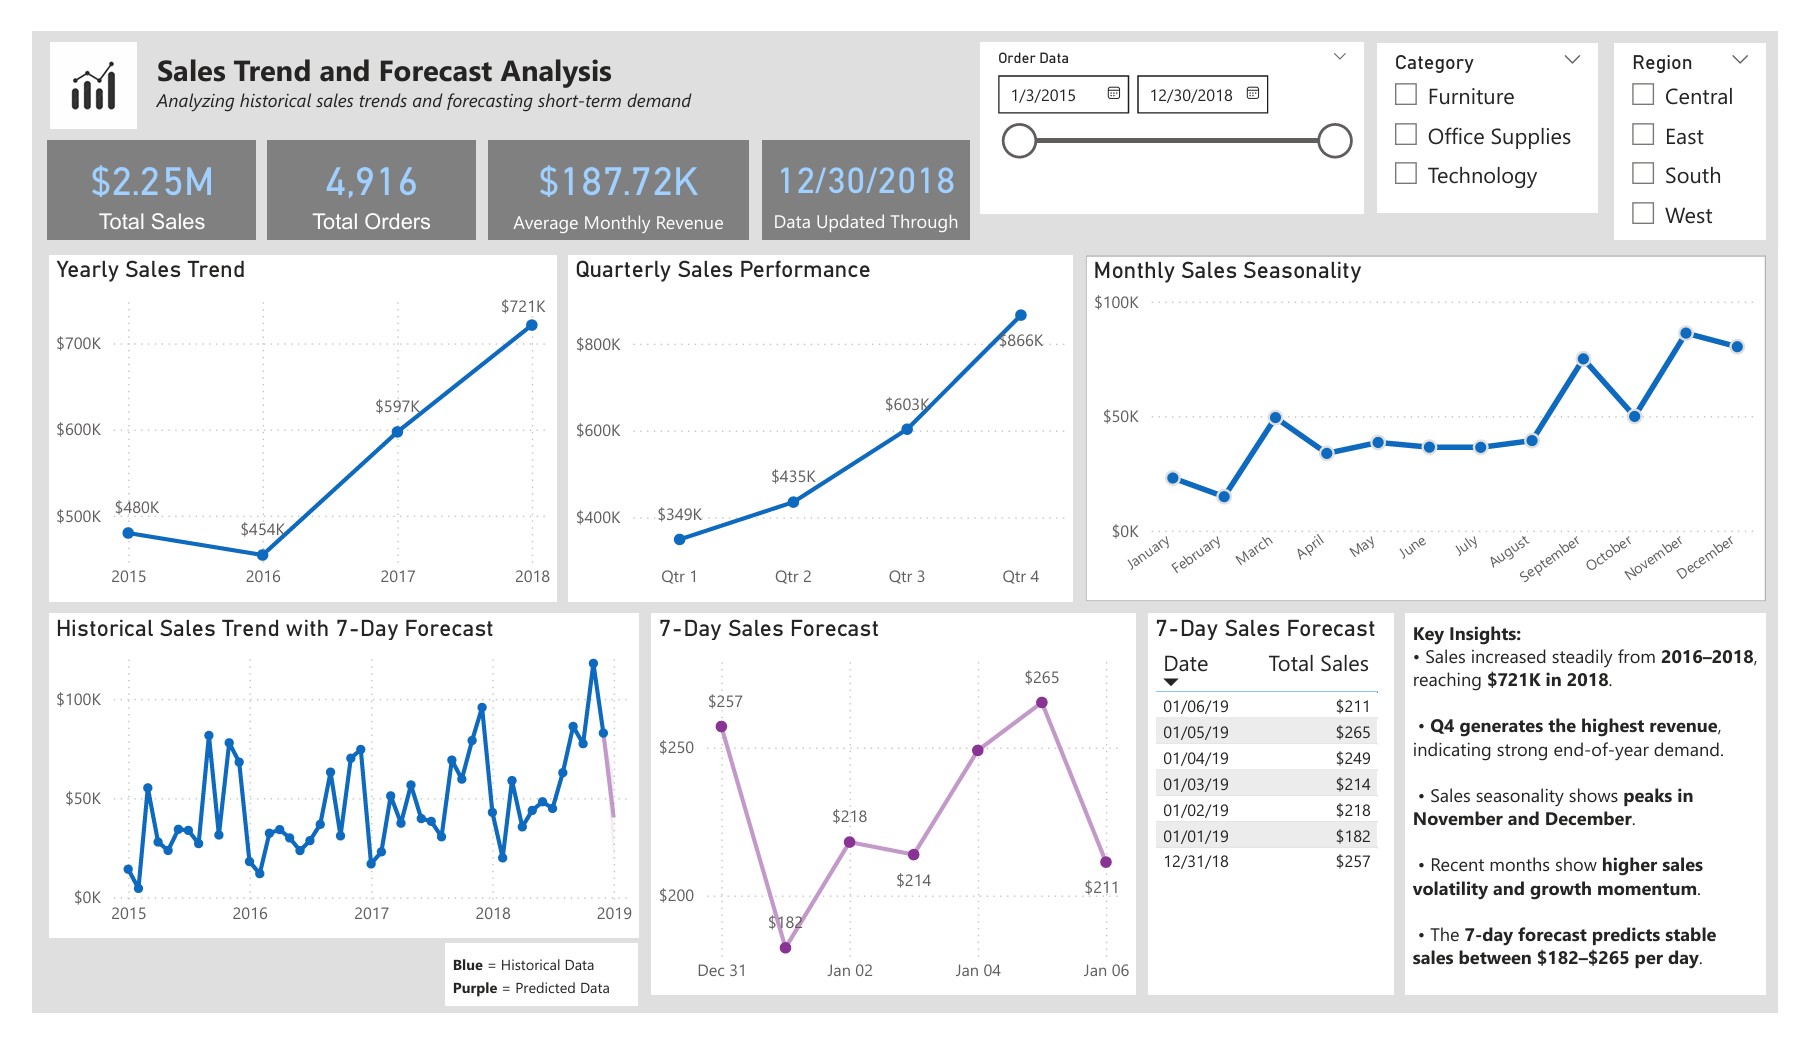

This screenshot's page, from the dashboard's own definition file:
{"tool":"powerbi","page":{"name":"📈 Dashboard 2 — Sales Trends & Forecasting","canvas":[1280,720],"ordinal":1},"visuals":[{"type":"textbox","box":[85.7,8.1,715.6,62.5],"z":0},{"type":"card","fields":{"Values":["superstore_clean.Total Sales"]},"box":[11.1,79.6,153.2,73.6],"z":1000},{"type":"card","fields":{"Values":["superstore_clean.Total Orders"]},"box":[171.8,80,153.6,72.7],"z":2000},{"type":"card","fields":{"Values":["superstore_clean.Avg Monthly Sales"]},"box":[333.6,80,152.7,72.7],"z":3000},{"type":"lineChart","title":"Monthly Sales Pattern","fields":{"Category":["superstore_clean.order_month"],"Y":["Sum(superstore_clean.sales)"]},"box":[11.9,419.5,671.8,257.7],"z":11000},{"type":"image","box":[8.1,8.1,72.6,62.5],"z":13000},{"type":"lineChart","title":"Sales Trend Over Time","fields":{"Category":["superstore_clean.order_date.Variation.Date Hierarchy.Year","superstore_clean.order_date.Variation.Date Hierarchy.Quarter","superstore_clean.order_date.Variation.Date Hierarchy.Month","superstore_clean.order_date.Variation.Date Hierarchy.Day"],"Y":["Sum(superstore_clean.sales)"]},"box":[11.9,162.8,671.8,244.8],"z":13001},{"type":"lineChart","title":"Quarterly Sales Performance","fields":{"Category":["superstore_clean.order_quarter"],"Y":["Sum(superstore_clean.sales)"]},"box":[694.5,419.5,576.9,257.7],"z":13003},{"type":"lineChart","title":"7-Day Sales Forecast Based on Historical Trends","fields":{"Category":["superstore_clean.order_date.Variation.Date Hierarchy.Year","superstore_clean.order_date.Variation.Date Hierarchy.Month"],"Y":["Sum(superstore_clean.sales)"]},"box":[694.5,162.8,576.9,244.8],"z":13004},{"type":"slicer","fields":{"Values":["superstore_clean.order_date"]},"box":[694.5,7.5,281.4,125.1],"z":13005},{"type":"slicer","fields":{"Values":["superstore_clean.category"]},"box":[985.6,8.6,162.8,124],"z":13006},{"type":"slicer","fields":{"Values":["superstore_clean.region"]},"box":[1160,8.8,111.2,143.8],"z":13007}]}

Visuals, with their boxes in screenshot pixels (x1, y1, x2, y2), scaled from the page's 1280x720 canvas onto the 1809x1045 screenshot:
textbox: [x1=121, y1=12, x2=1132, y2=102]
card - superstore_clean.Total Sales: [x1=16, y1=116, x2=232, y2=222]
card - superstore_clean.Total Orders: [x1=243, y1=116, x2=460, y2=222]
card - superstore_clean.Avg Monthly Sales: [x1=471, y1=116, x2=687, y2=222]
"Monthly Sales Pattern" lineChart: [x1=17, y1=609, x2=966, y2=983]
image: [x1=11, y1=12, x2=114, y2=102]
"Sales Trend Over Time" lineChart: [x1=17, y1=236, x2=966, y2=592]
"Quarterly Sales Performance" lineChart: [x1=982, y1=609, x2=1797, y2=983]
"7-Day Sales Forecast Based on Historical Trends" lineChart: [x1=982, y1=236, x2=1797, y2=592]
slicer - superstore_clean.order_date: [x1=982, y1=11, x2=1379, y2=192]
slicer - superstore_clean.category: [x1=1393, y1=12, x2=1623, y2=192]
slicer - superstore_clean.region: [x1=1639, y1=13, x2=1797, y2=221]
